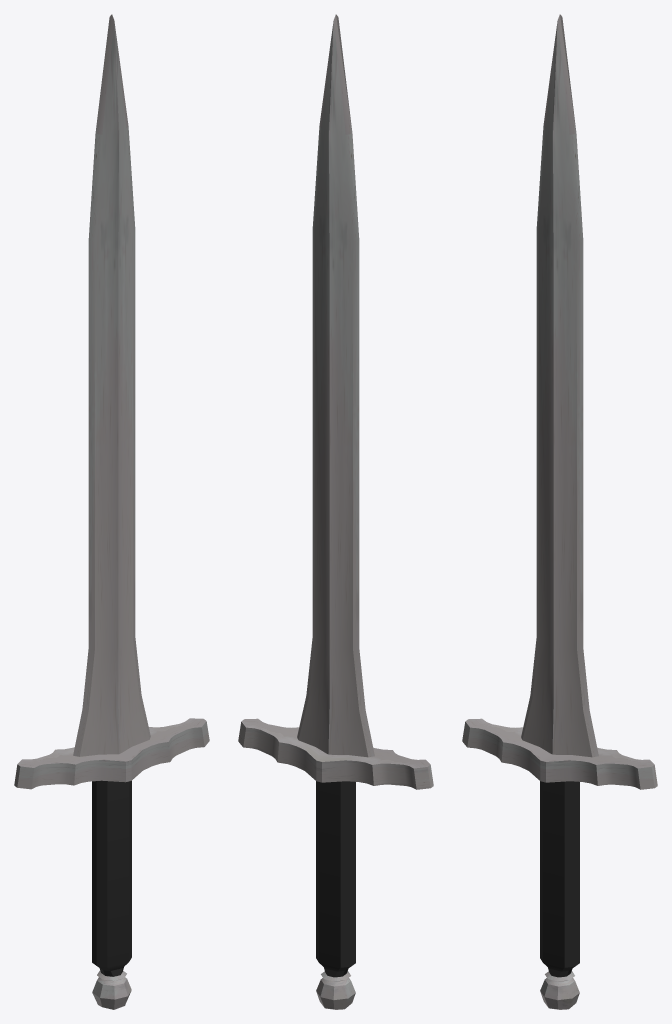
Rendered from SM_Blockout_Sword_2.fbx.
3 renders of one model, left to right at view 1: azimuth 30°, elevation 25°; view 2: azimuth 150°, elevation 25°; view 3: azimuth 330°, elevation 25°, orthographic.
Parts seen in each view (by area): view 1: Cylinder.003; view 2: Cylinder.003; view 3: Cylinder.003.
Boxes of the visible parts, left/top/right/bottom form: Cylinder.003: left=14, top=14, right=209, bottom=1009; Cylinder.003: left=238, top=14, right=433, bottom=1009; Cylinder.003: left=462, top=14, right=657, bottom=1009.
Size of the model in its own units: 35.79 by 177 by 10.76.
